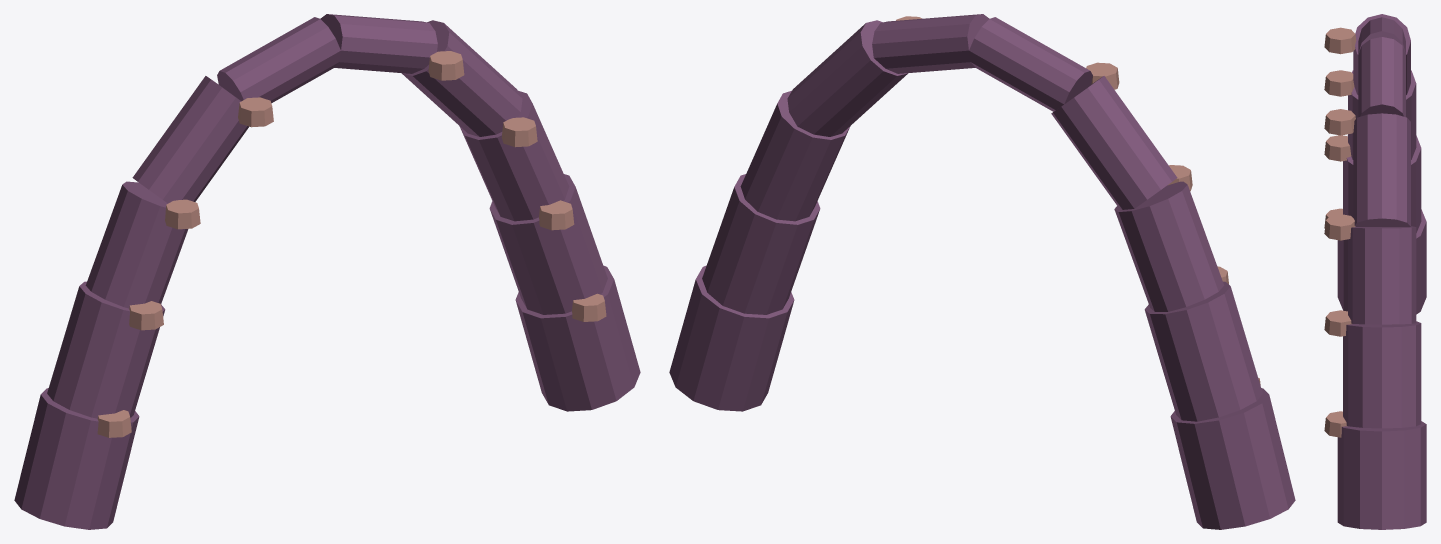
Rendered from PirateCove_KrakenArch_Standard.glb.
3 renders of one model, left to right at view 1: azimuth 30°, elevation 25°; view 2: azimuth 150°, elevation 25°; view 3: azimuth 270°, elevation 25°, orthographic. The views are drawn at different scales.
Parts seen in each view (by area): view 1: PirateCove_KrakenArch_Standard; view 2: PirateCove_KrakenArch_Standard; view 3: PirateCove_KrakenArch_Standard.
Boxes of the visible parts, x1,y1,x2,y2 form: PirateCove_KrakenArch_Standard: (14,14,640,529); PirateCove_KrakenArch_Standard: (669,14,1295,529); PirateCove_KrakenArch_Standard: (1324,14,1426,529).
Size of the model in its own units: 4.18 by 2.88 by 0.69.
